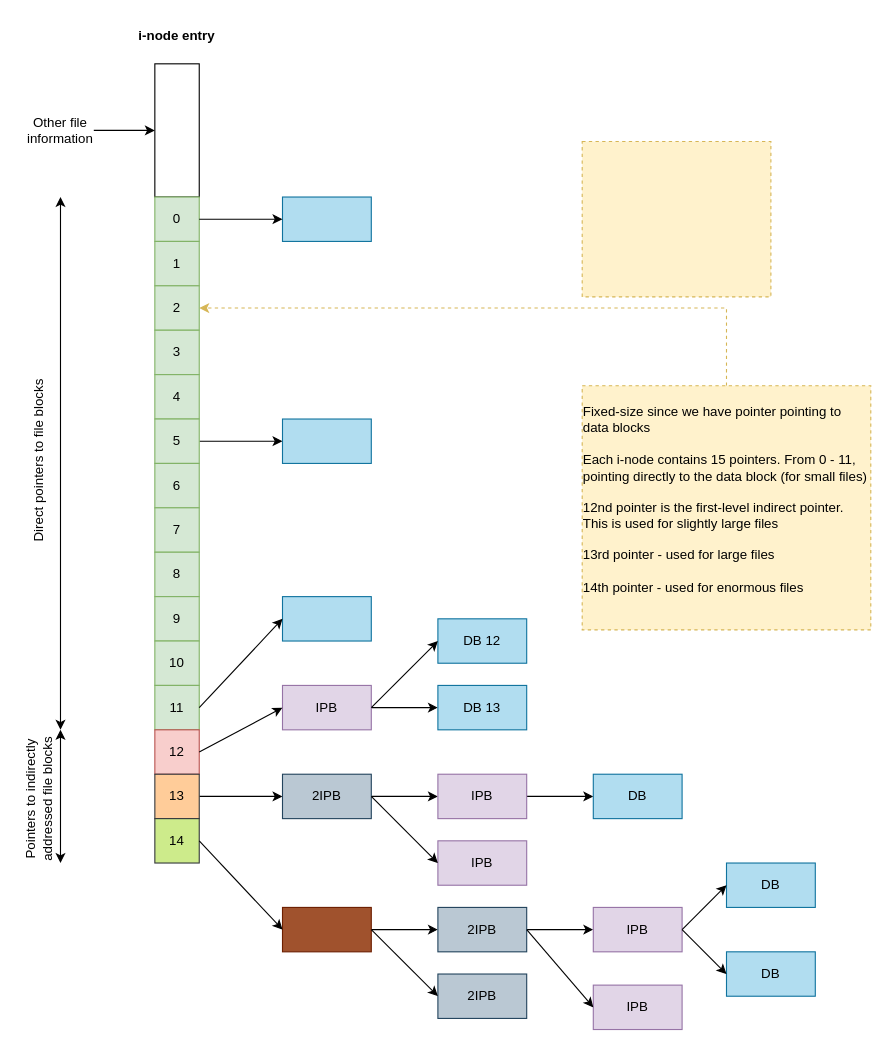
This 890x1049 diagram has some shape labels left out. The box of each missing label's shape, as (x1, y1, x2, y2) in pixels:
3IPB: (281, 906, 371, 952)
DB 0: (281, 196, 371, 241)
DB 11: (281, 596, 371, 641)
DB 5: (281, 418, 371, 463)
DB = Data block IPB = Indirect pointer block 2IPB = Double IBP 3IPB = Triple IPB: (581, 140, 771, 297)
